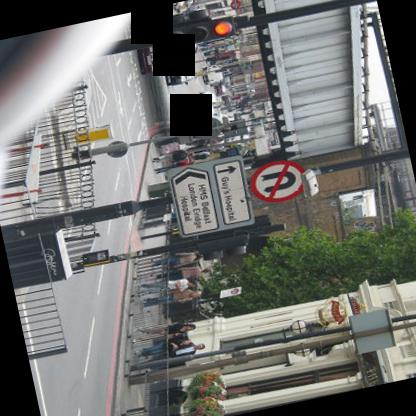backpack: (171, 152, 187, 159), (175, 162, 187, 164)
handbag: (173, 252, 194, 258)
